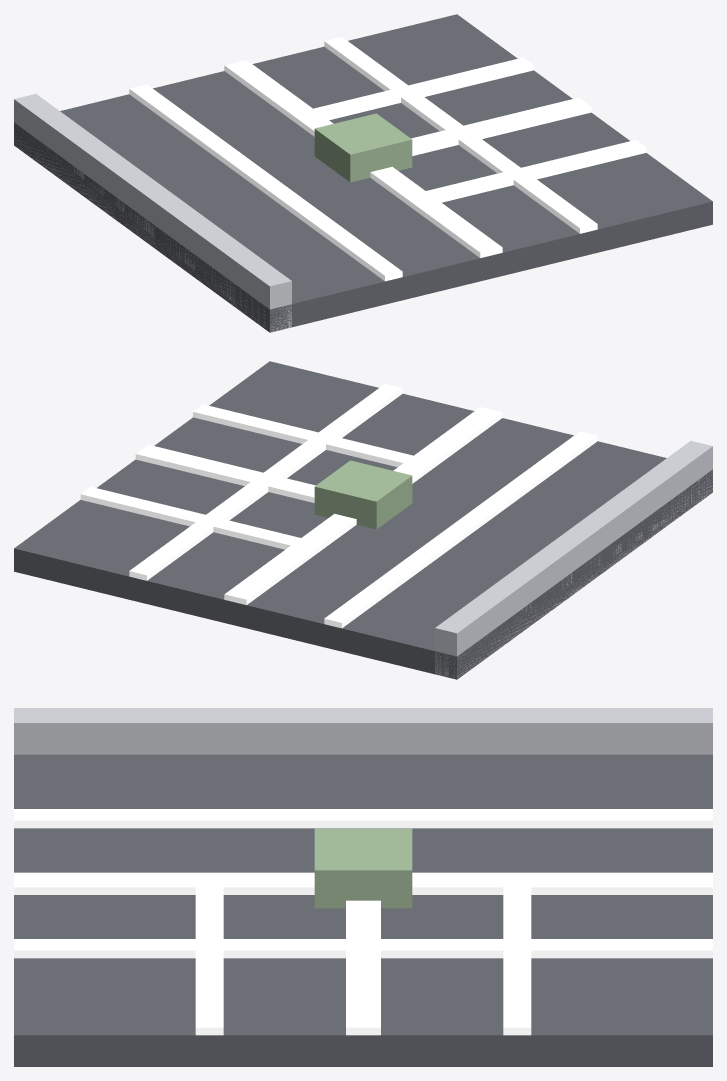
The model's file is road_tee_2.glb.
3 renders of one model, top to bottom at view 1: azimuth 30°, elevation 25°; view 2: azimuth 150°, elevation 25°; view 3: azimuth 270°, elevation 25°, orthographic. The views are drawn at different scales.
Visible parts, largest first — view 1: road_tee_2; view 2: road_tee_2; view 3: road_tee_2.
Boxes of the visible parts, x1=… form: road_tee_2: x1=14, y1=14, x2=712, y2=332; road_tee_2: x1=14, y1=361, x2=712, y2=679; road_tee_2: x1=14, y1=708, x2=712, y2=1066.
Size of the model in its own units: 1 by 0.11 by 1.
